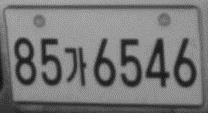4: (145, 37, 169, 87)
5: (120, 37, 142, 88), (40, 37, 62, 86)
6: (172, 37, 197, 87), (92, 37, 116, 86)
8: (13, 37, 37, 85)
가: (63, 46, 87, 86)
